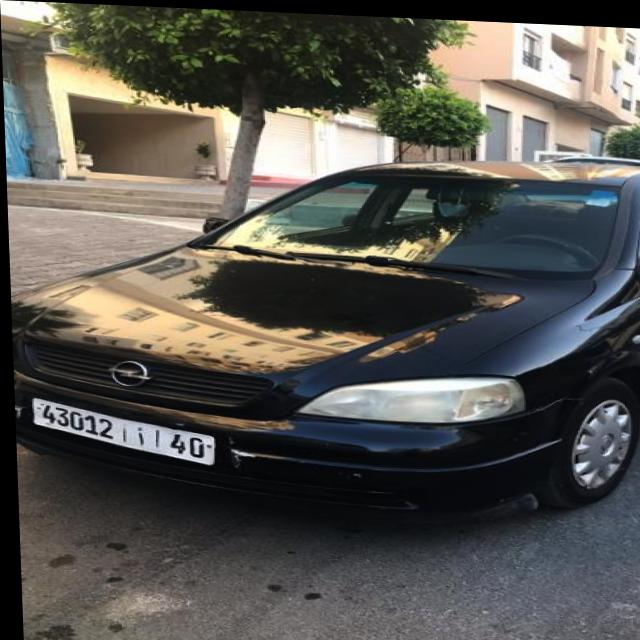License-Plate: (29, 399, 209, 462)
